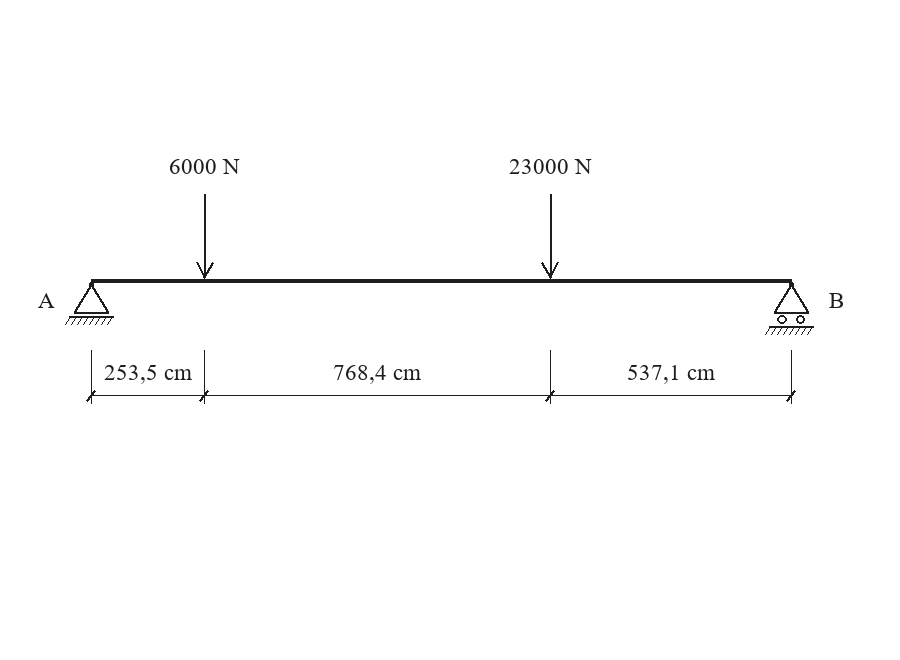pin_support: (65, 282, 114, 325)
point_load: (196, 194, 214, 279), (541, 194, 559, 279)
roller_support: (765, 282, 814, 335)
